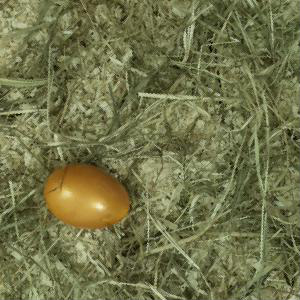egg: (43, 162, 131, 229)
